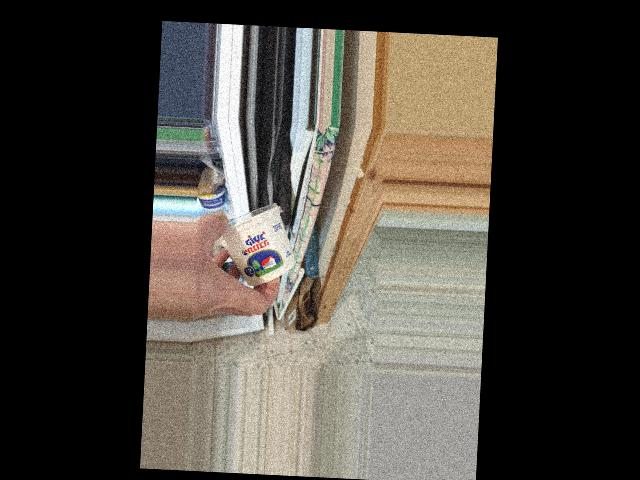cotage: (221, 198, 297, 284)
